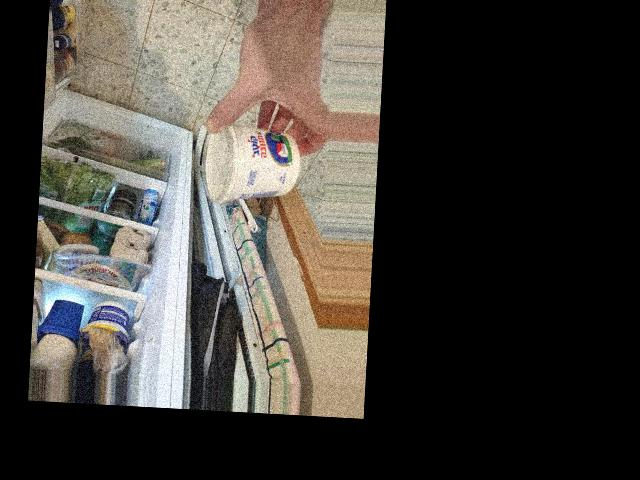cotage: (207, 117, 294, 199)
